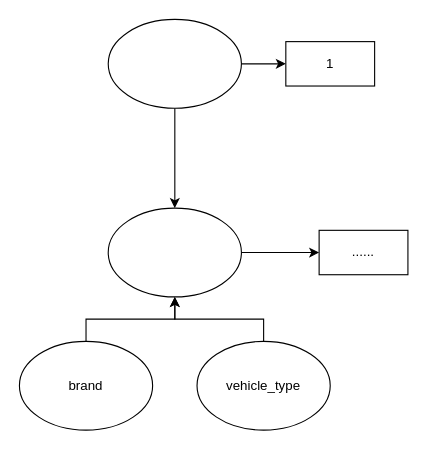
Image size: 427x450. Some labels were removed from this diagram. The shapes that lost their labels are listed below. From the top down, each one's box as (x1, y1, x2, y2) in pixels, then its label:
(107, 18, 241, 108): response
(107, 207, 241, 297): row
